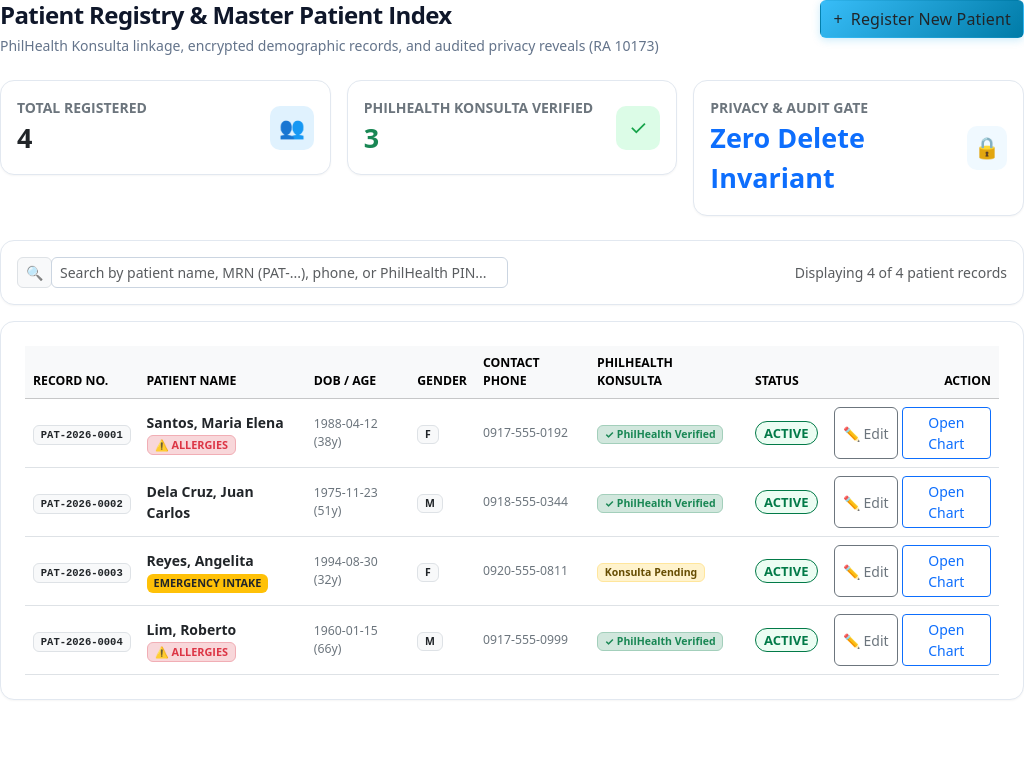
Test case: Phase 1 & 2 Frontend Feature Screens › PatientsPage renders MPI, enforces masked identifiers and requires audited reason for reveal
The width and height of the screenshot is (1024, 768).
Check: the text "Santos, Maria Elena" is shown, box [146,412,298,432]
Click the button "Open Chart" in the row of "PAT-2026-0001".
click(946, 433)  # box [902,407,991,459]
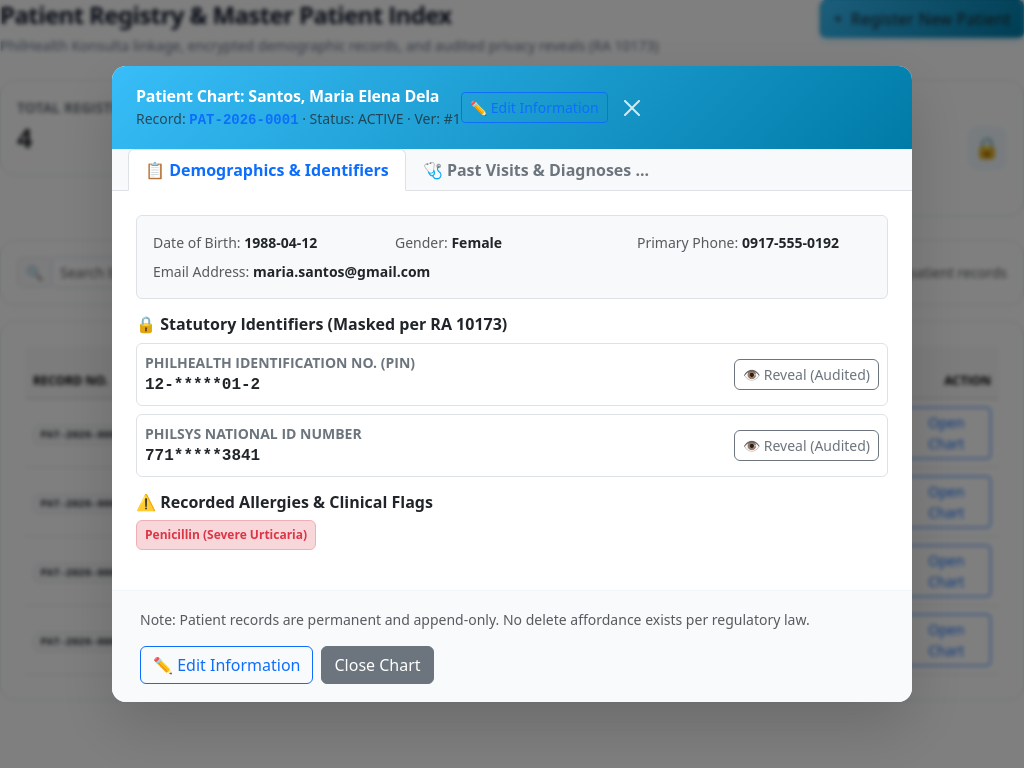
Check: the text "12-*****01-2" is shown, box [145,376,260,394]
Check: the button "👁️ Reveal (Audited)" in the row of "PHILHEALTH IDENTIFICATION NO. (PIN)" is shown
Click the button "👁️ Reveal (Audited)" in the row of "PHILHEALTH IDENTIFICATION NO. (PIN)".
click(807, 374)  # box [734,358,879,390]
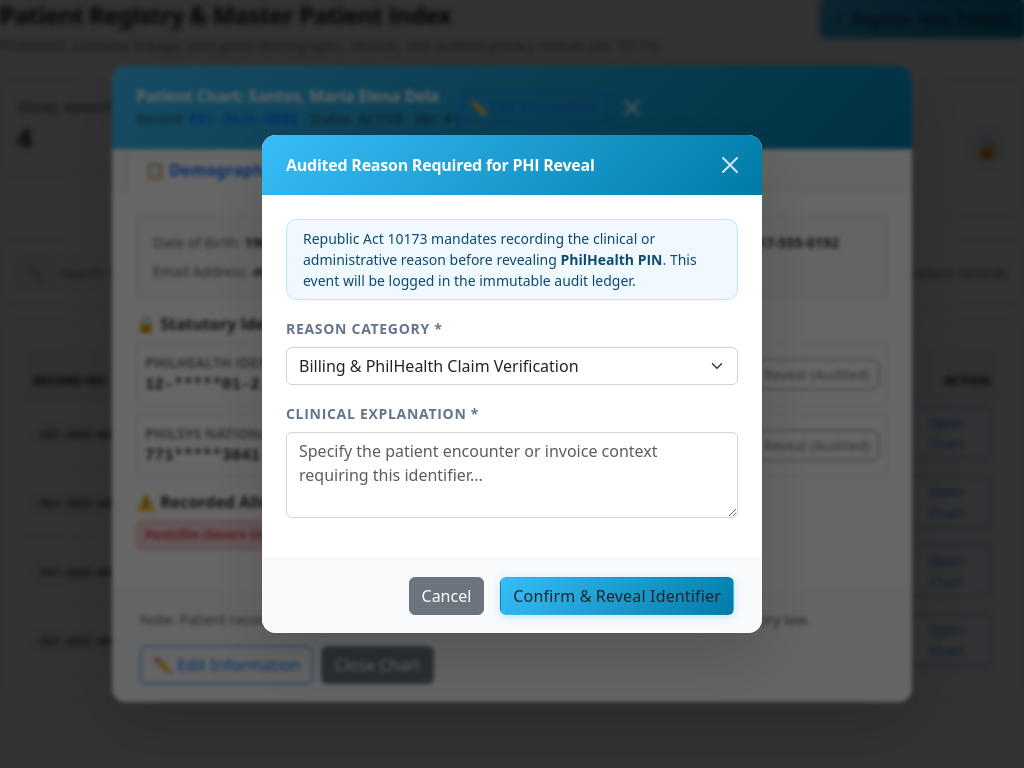
Check: the heading "Audited Reason Required for PHI Reveal" is shown, box [286,153,595,177]
Note: Fill in required reason explanation
Replace the text in the text box with placeholder "Specify the patient encounter or invoice context" with "Outpatient consult check" at [512, 475], box [286,432,738,518]
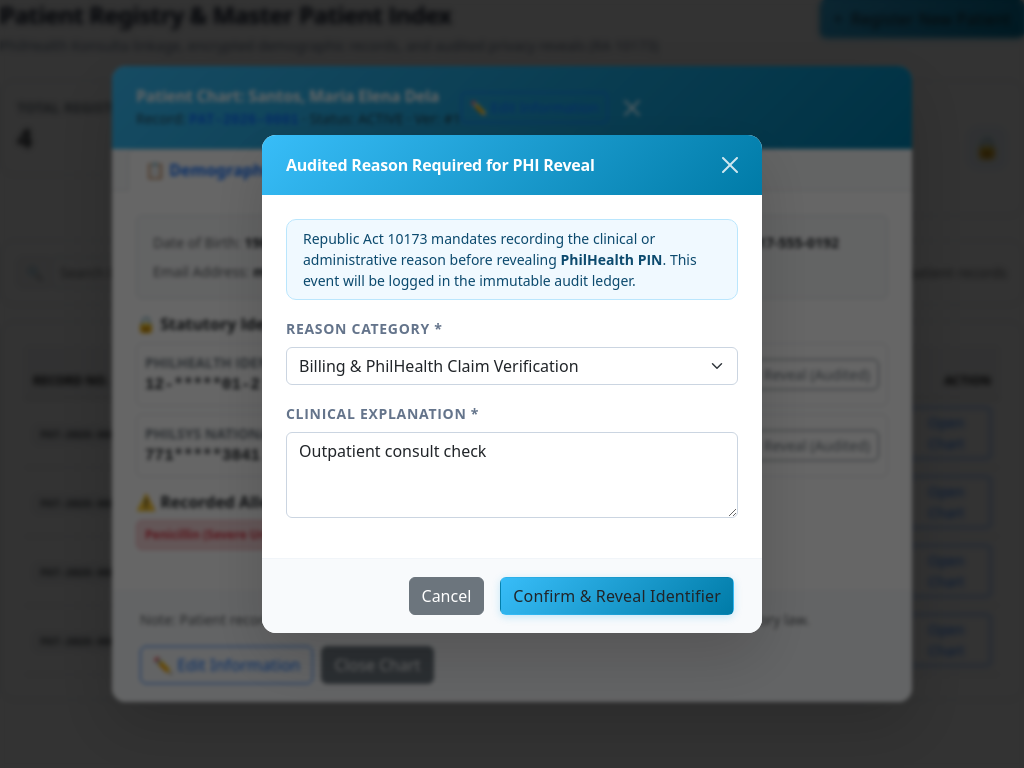
Note: Confirm reveal
Click the button "Confirm & Reveal Identifier".
click(617, 596)  # box [500,577,734,615]
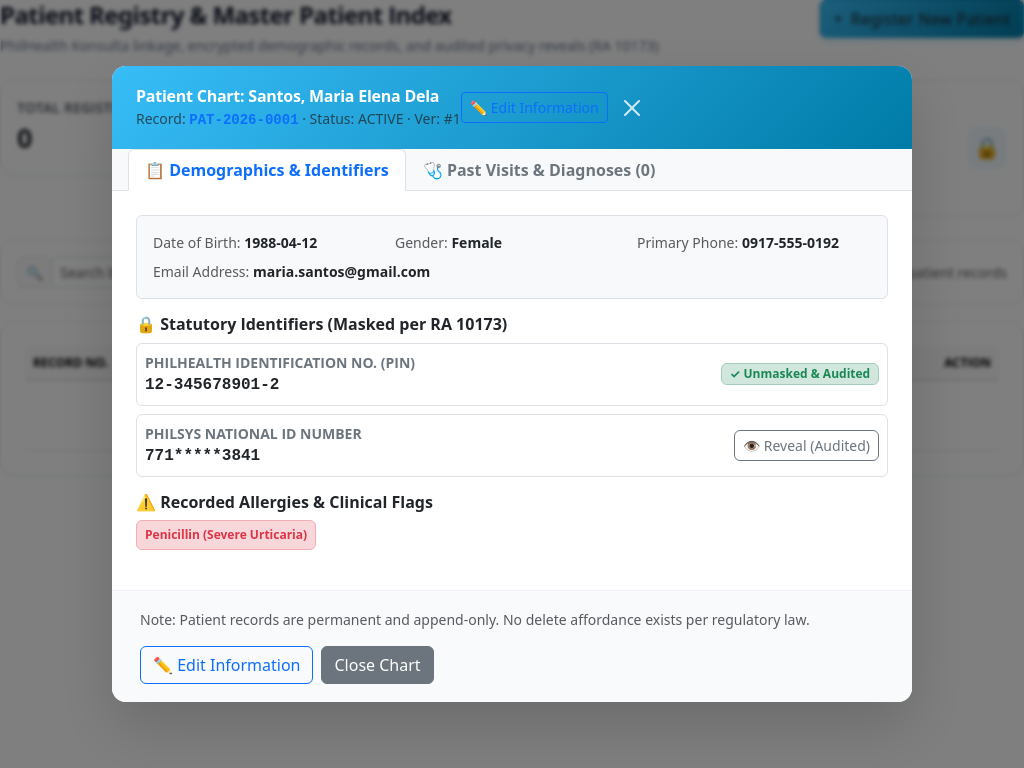
Check: the text "✓ Unmasked & Audited" is shown, box [721,363,879,385]
Check: the text "12-345678901-2" is shown, box [145,376,279,394]
